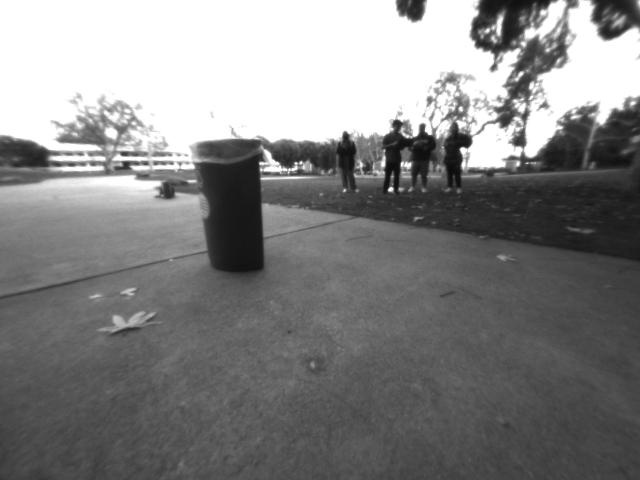trashcan_open: (188, 134, 273, 278)
